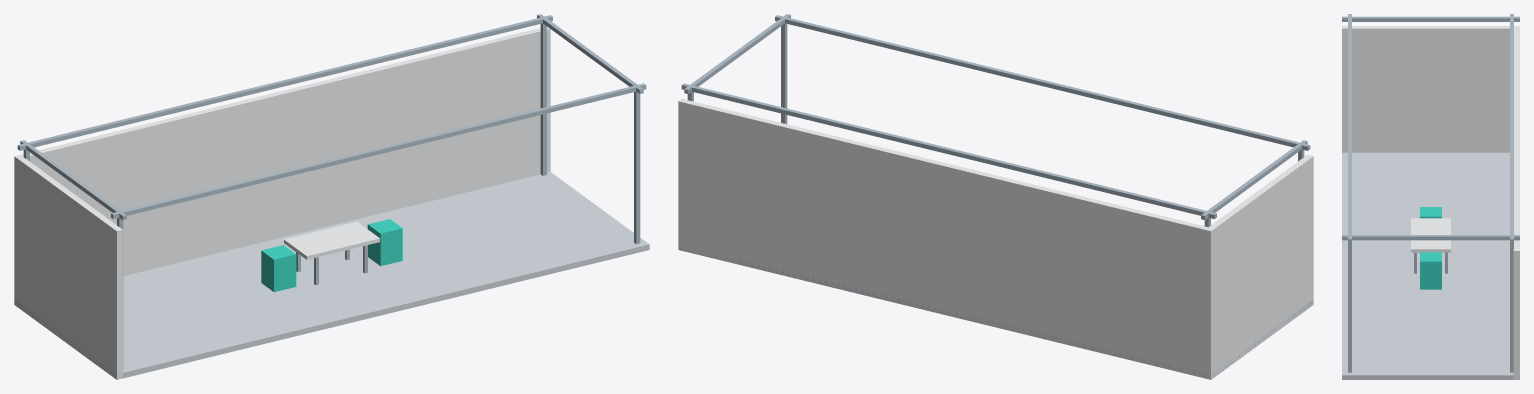
3 views of the same model, side by side, from view 1: azimuth 30°, elevation 25°; view 2: azimuth 150°, elevation 25°; view 3: azimuth 270°, elevation 25° (orthographic). The views are drawn at different scales.
Parts seen in each view (by area): view 1: Exhibition Booth Concept; view 2: Exhibition Booth Concept; view 3: Exhibition Booth Concept.
Boxes of the visible parts, bbox=[...] form: Exhibition Booth Concept: bbox=[14, 14, 649, 379]; Exhibition Booth Concept: bbox=[678, 14, 1313, 379]; Exhibition Booth Concept: bbox=[1342, 14, 1519, 379].
Bounding box in the file's own units: 12 × 3.49 × 4.
